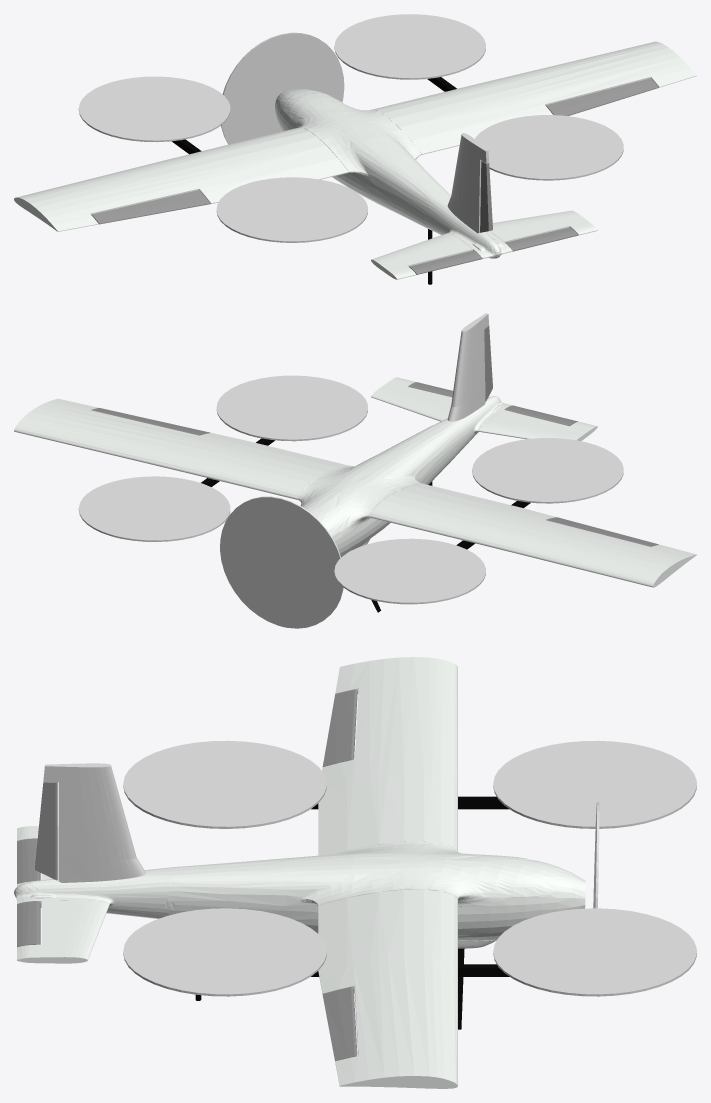
File: StriverMiniVTOL.fbx
The picture shows the model from 3 angles, top to bottom: view 1: azimuth 30°, elevation 25°; view 2: azimuth 150°, elevation 25°; view 3: azimuth 270°, elevation 25°; orthographic projection. The views are drawn at different scales.
Visible parts, largest first — view 1: ~CS_LMW, ~CS_RMW, ~CS_FUSELAGE, ~CS_ENGINE, ~CS_ENGINE-3, ~CS_ENGINE-1, ~CS_ENGINE-2, ~CS_ENGINE-4, ~CS_MVS, ~CS_LHS, ~CS_RHS, ~CS_LMA (+4 smaller); view 2: ~CS_LMW, ~CS_RMW, ~CS_ENGINE, ~CS_FUSELAGE, ~CS_ENGINE-1, ~CS_ENGINE-3, ~CS_ENGINE-4, ~CS_ENGINE-2, ~CS_MVS, ~CS_LHS, ~CS_RHS, ~CS_LMA (+3 smaller); view 3: ~CS_FUSELAGE, ~CS_RMW, ~CS_LMW, ~CS_ENGINE-1, ~CS_ENGINE-4, ~CS_ENGINE-2, ~CS_ENGINE-3, ~CS_MVS, ~CS_RHS, ~CS_LMA, ~CS_RMA, ~CS_MMR (+3 smaller).
Boxes of the visible parts, x1=… form: ~CS_LMW: x1=14, y1=127, x2=348, y2=231; ~CS_RMW: x1=373, y1=41, x2=696, y2=154; ~CS_FUSELAGE: x1=275, y1=89, x2=512, y2=258; ~CS_ENGINE: x1=221, y1=32, x2=344, y2=144; ~CS_ENGINE-3: x1=78, y1=76, x2=230, y2=142; ~CS_ENGINE-1: x1=334, y1=14, x2=485, y2=79; ~CS_ENGINE-2: x1=216, y1=177, x2=367, y2=242; ~CS_ENGINE-4: x1=475, y1=115, x2=623, y2=180; ~CS_MVS: x1=447, y1=133, x2=489, y2=233; ~CS_LHS: x1=371, y1=232, x2=473, y2=279; ~CS_RHS: x1=490, y1=210, x2=597, y2=242; ~CS_LMA: x1=91, y1=190, x2=210, y2=224; ~CS_LMW: x1=370, y1=483, x2=696, y2=587; ~CS_RMW: x1=14, y1=398, x2=348, y2=499; ~CS_ENGINE: x1=220, y1=496, x2=343, y2=628; ~CS_FUSELAGE: x1=297, y1=396, x2=512, y2=557; ~CS_ENGINE-1: x1=78, y1=476, x2=230, y2=541; ~CS_ENGINE-3: x1=334, y1=538, x2=485, y2=604; ~CS_ENGINE-4: x1=216, y1=375, x2=367, y2=441; ~CS_ENGINE-2: x1=472, y1=438, x2=623, y2=503; ~CS_MVS: x1=447, y1=313, x2=489, y2=421; ~CS_LHS: x1=478, y1=410, x2=597, y2=441; ~CS_RHS: x1=371, y1=377, x2=452, y2=421; ~CS_LMA: x1=546, y1=517, x2=658, y2=546; ~CS_FUSELAGE: x1=14, y1=841, x2=585, y2=948; ~CS_RMW: x1=318, y1=889, x2=457, y2=1088; ~CS_LMW: x1=318, y1=657, x2=457, y2=855; ~CS_ENGINE-1: x1=493, y1=908, x2=696, y2=996; ~CS_ENGINE-4: x1=123, y1=908, x2=326, y2=996; ~CS_ENGINE-2: x1=123, y1=740, x2=326, y2=828; ~CS_ENGINE-3: x1=493, y1=740, x2=696, y2=828; ~CS_MVS: x1=43, y1=763, x2=145, y2=882; ~CS_RHS: x1=17, y1=900, x2=109, y2=963; ~CS_LMA: x1=322, y1=689, x2=357, y2=766; ~CS_RMA: x1=322, y1=987, x2=357, y2=1061; ~CS_MMR: x1=35, y1=781, x2=57, y2=880.
Bounding box in the file's own units: 82.74 × 57.02 × 21.6.
Materials: 4 (1 with a texture image).
